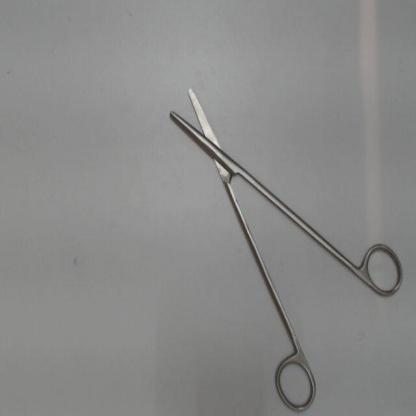9 Metzenbaum Scissors: (167, 82, 408, 415)
